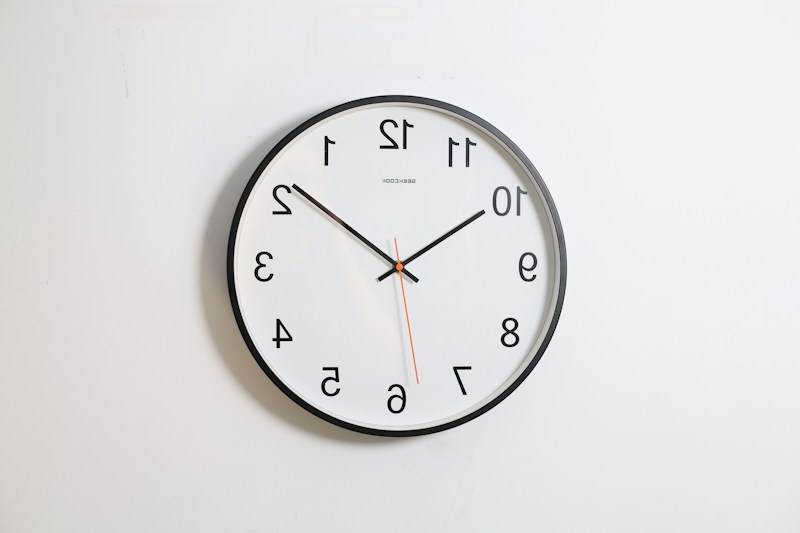banana peel: (140, 107, 660, 426)
